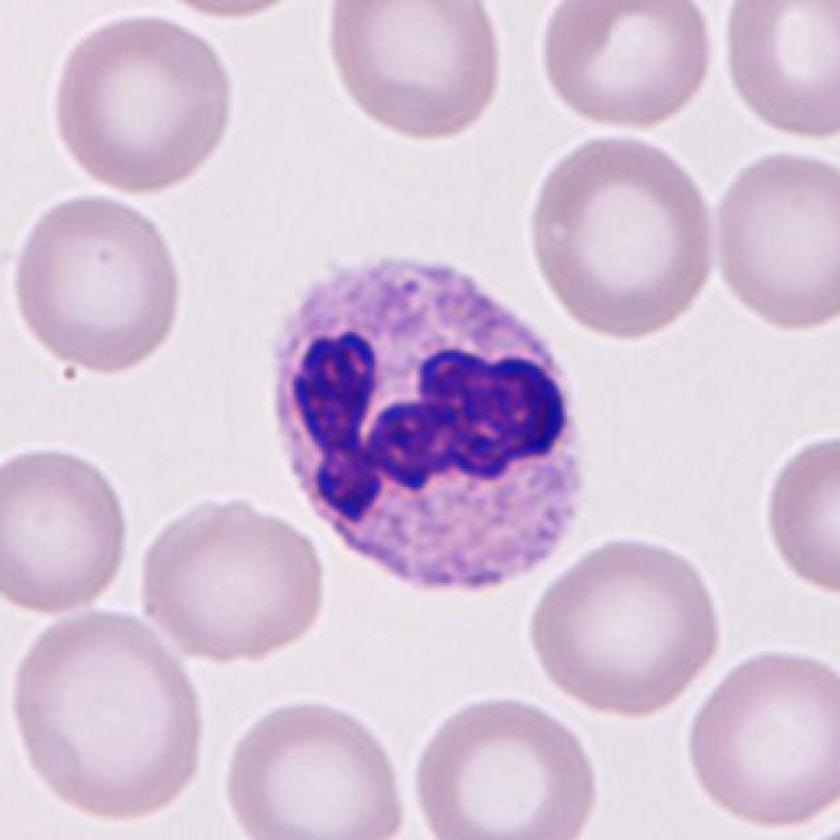neutrophil: (273, 262, 586, 596)
